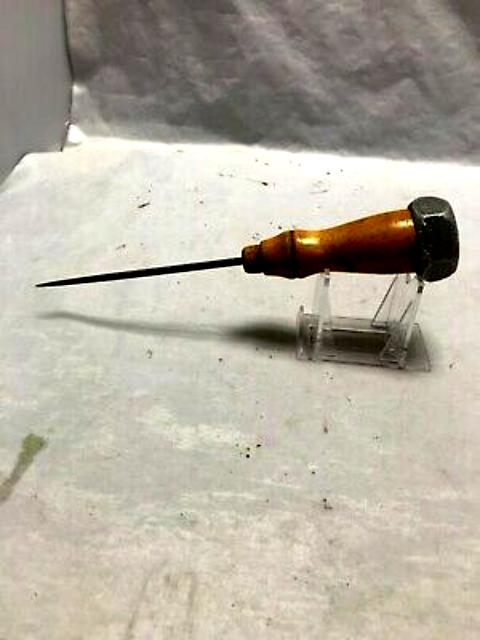ice pick: (32, 197, 460, 289)
